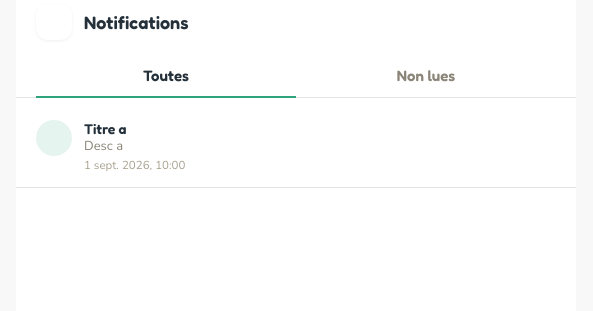
Test: Centre de notifications › filters unread, exposes the active tab, and shows a dedicated empty unread state
Expected: the text "Titre a" is shown, [84,120,126,137]
What coordinates should you click on to do the following:
click the tab "Non lues"
I would click on:
 (426, 76)
Its box is [296,54,556,98].
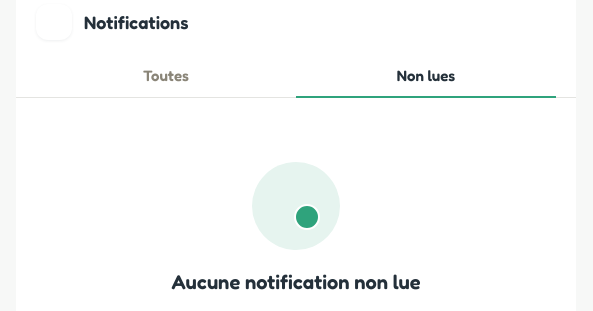
Now the heading "Aucune notification non lue" is shown, box [171,270,420,294]
